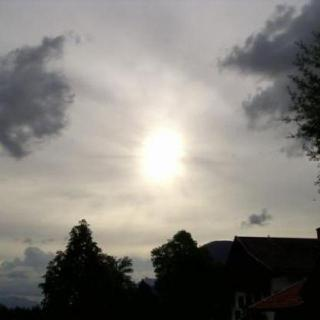Cirrostratus: (0, 6, 84, 172)
